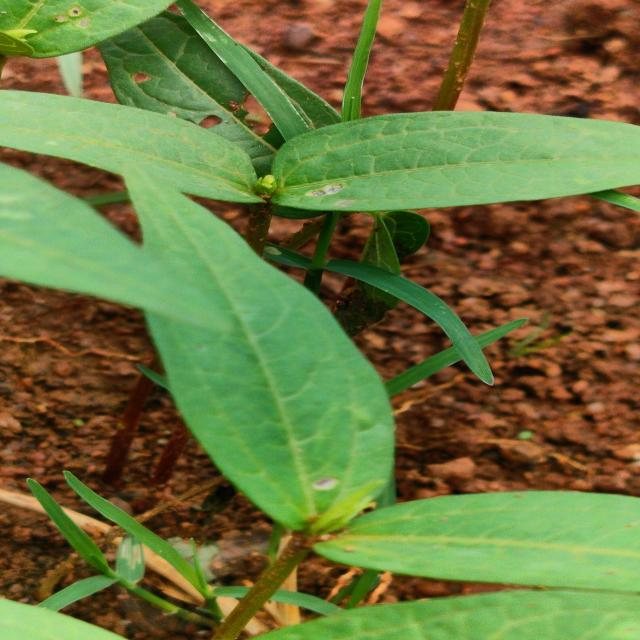Black gram_healthy: (128, 157, 406, 535)
